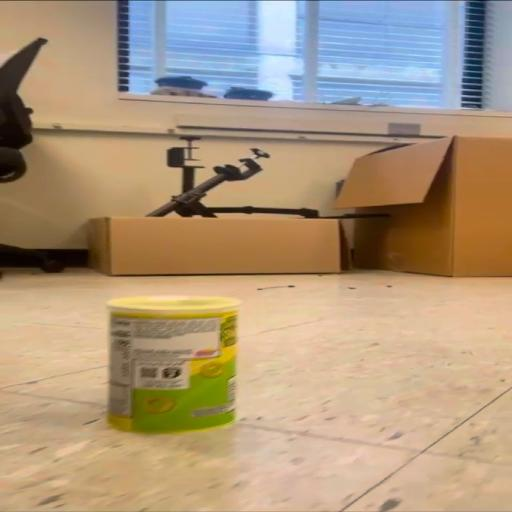pringle can: (105, 296, 236, 431)
